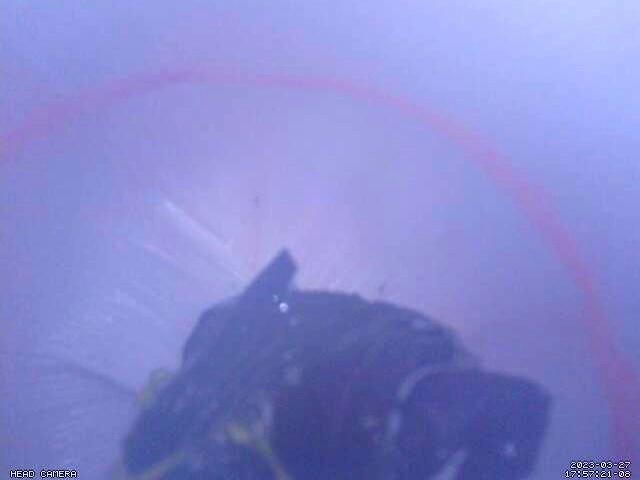head: (0, 61, 640, 480)
